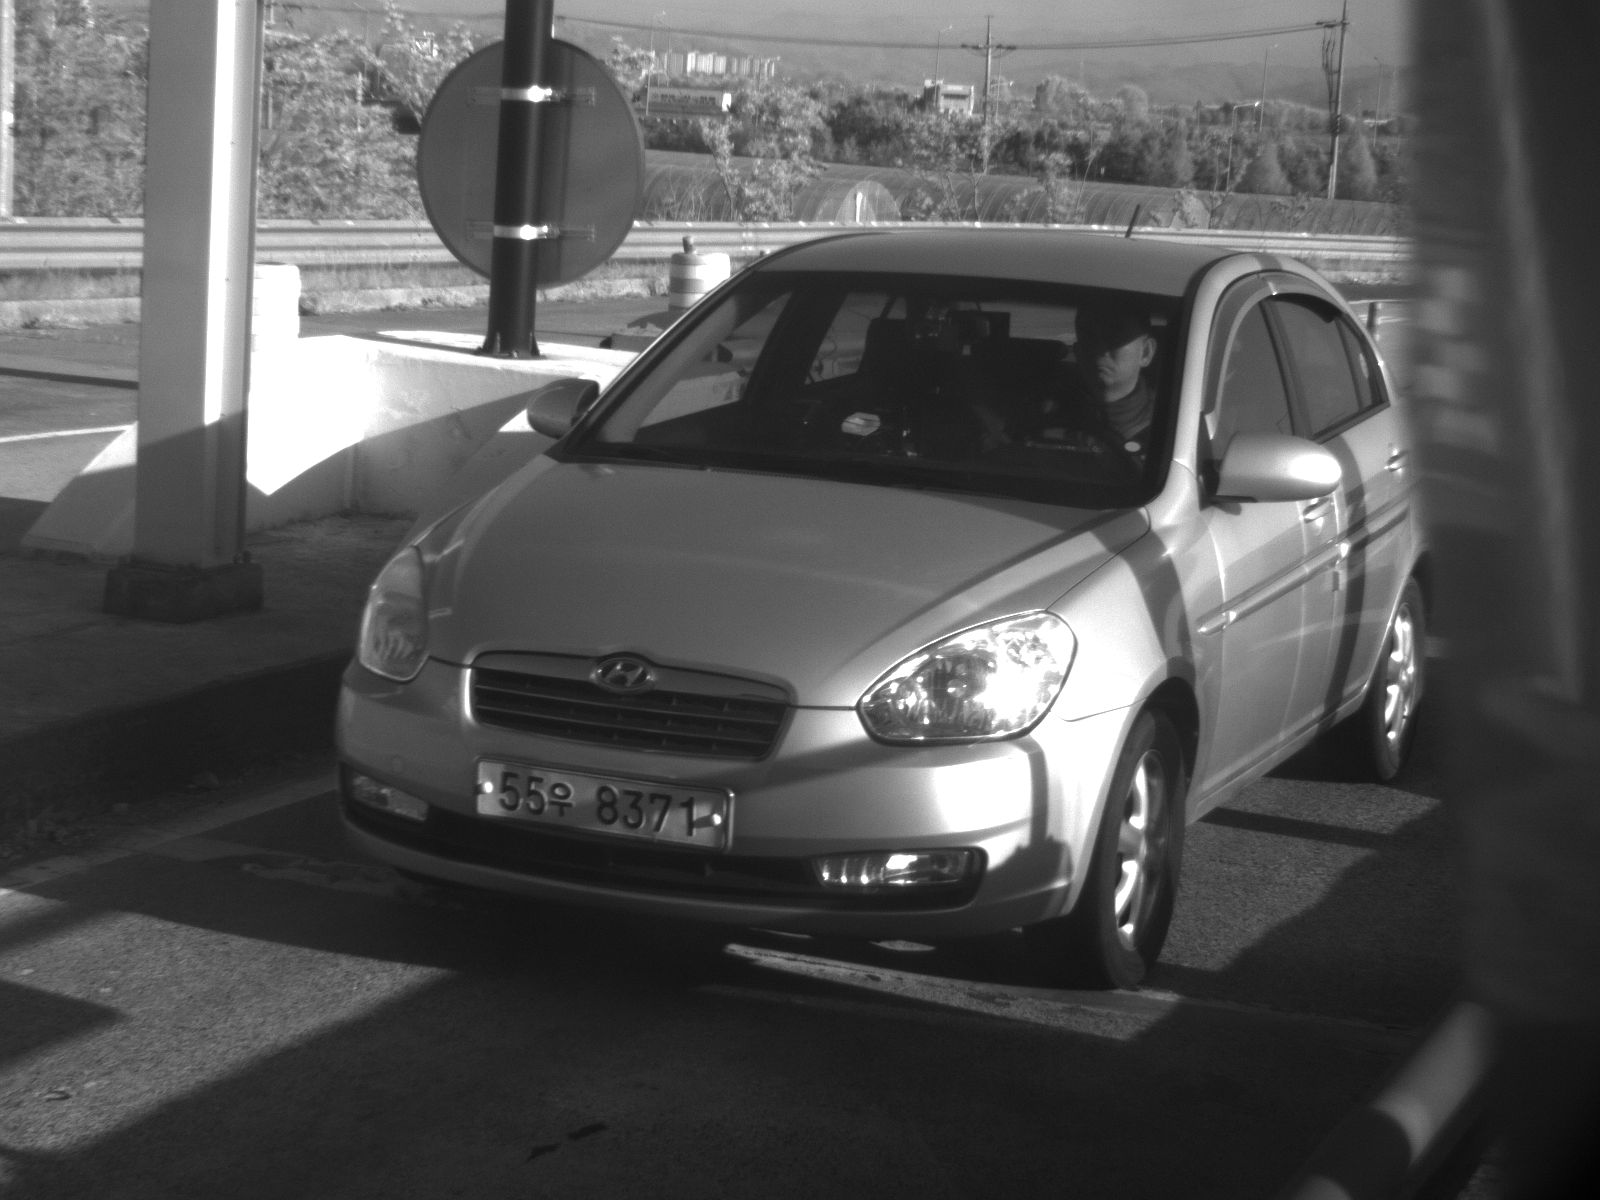car: (330, 217, 1434, 992)
plate: (470, 748, 737, 857)
